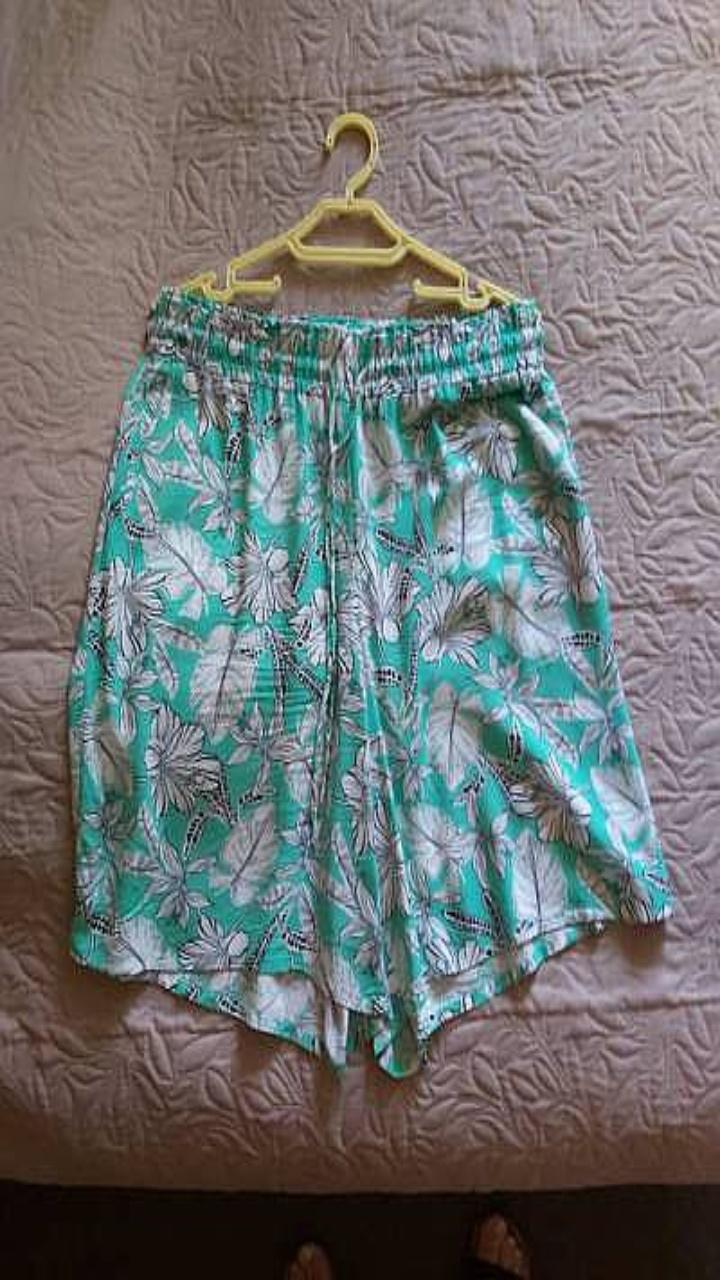Shorts: (68, 286, 671, 1076)
